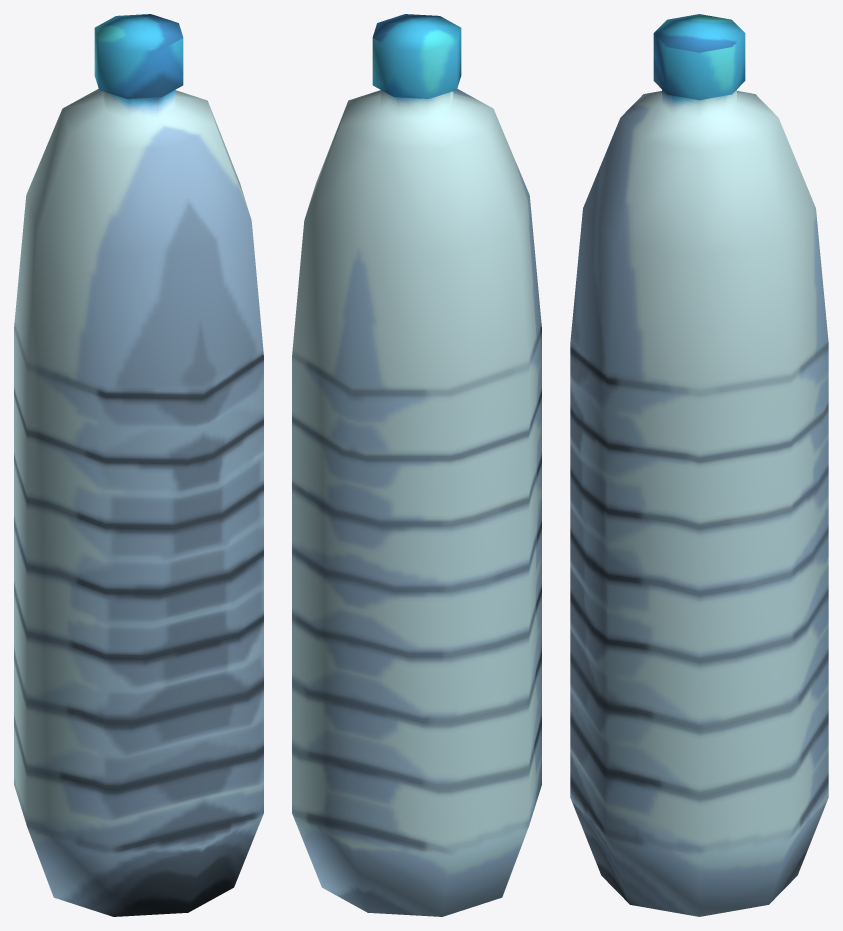
Rendered from WaterBottle.fbx.
3 renders of one model, left to right at view 1: azimuth 30°, elevation 25°; view 2: azimuth 150°, elevation 25°; view 3: azimuth 270°, elevation 25°, orthographic.
Parts seen in each view (by area): view 1: polySurface3; view 2: polySurface3; view 3: polySurface3.
Boxes of the visible parts, left/top/right/bottom form: polySurface3: left=14, top=14, right=263, bottom=916; polySurface3: left=292, top=14, right=541, bottom=916; polySurface3: left=570, top=14, right=828, bottom=916.
Size of the model in its own units: 136 by 508 by 136.
